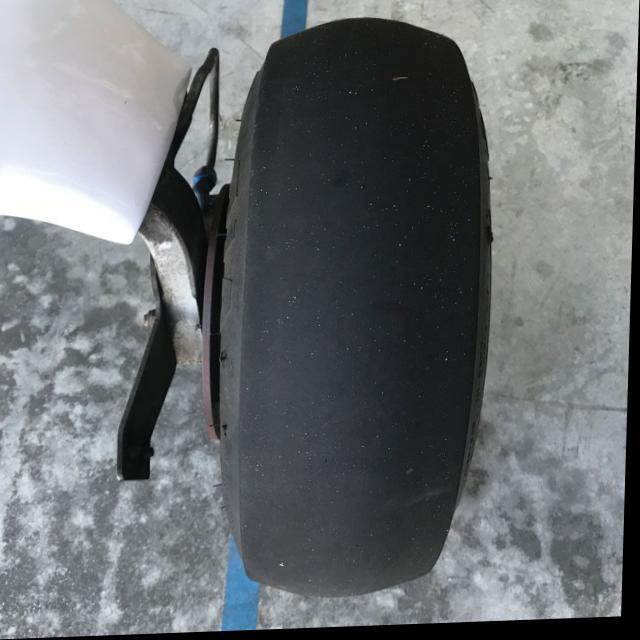Flat spots: (263, 41, 434, 574)
